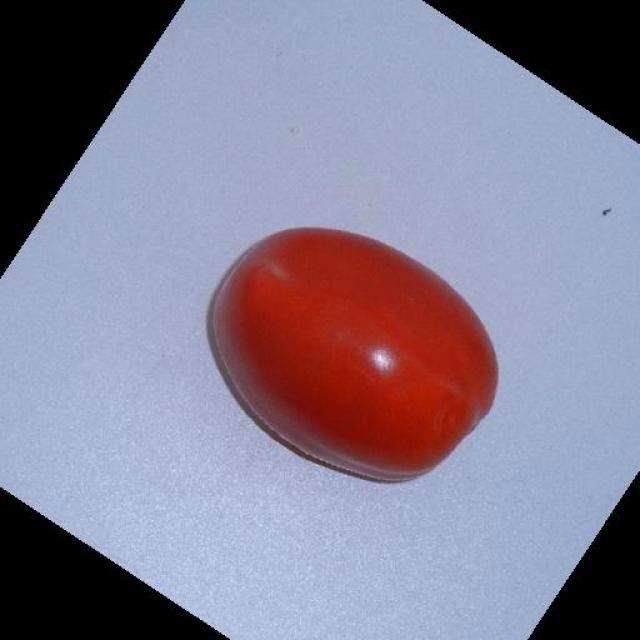tomato: (205, 228, 500, 487)
